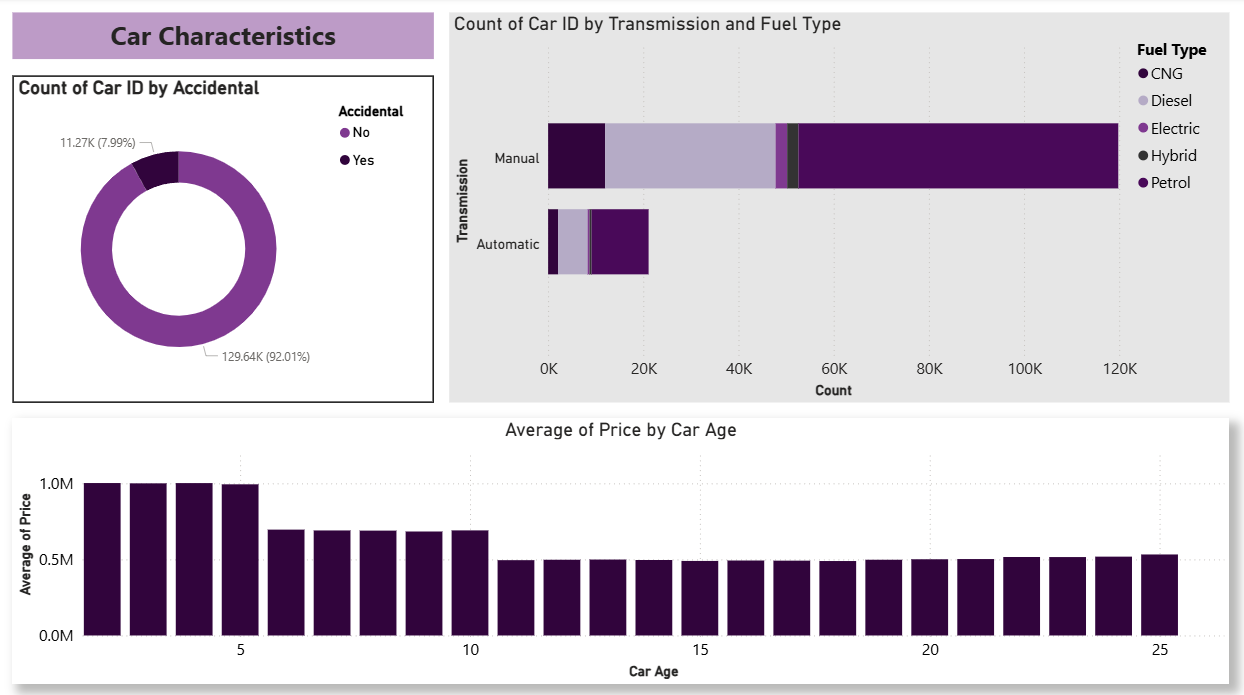

The page's visual inventory and layout, read from the dashboard file:
{"tool":"powerbi","page":{"name":"Page 3","canvas":[1280,720],"ordinal":2},"visuals":[{"type":"textbox","box":[16,16,432,48],"z":0},{"type":"barChart","fields":{"Category":["Car Sell Dataset.Transmission"],"Series":["Car Sell Dataset.Fuel Type"],"Y":["CountNonNull(Car Sell Dataset.Car ID)"]},"box":[464,16,800,400],"z":1000},{"type":"columnChart","fields":{"Category":["Car Sell Dataset.Car Age"],"Y":["Avg(Car Sell Dataset.Price)"]},"box":[16,432,1248,272],"z":2000},{"type":"donutChart","fields":{"Category":["Car Sell Dataset.Accidental"],"Y":["CountNonNull(Car Sell Dataset.Car ID)"]},"box":[16,80,432,336],"z":3000}]}

Visuals, with their boxes in screenshot pixels (x1, y1, x2, y2), scaled from the page's 1280x720 canvas onto the 1244x695 screenshot:
textbox: box(16, 15, 435, 62)
barChart - Car Sell Dataset.Transmission x Car Sell Dataset.Fuel Type: box(451, 15, 1228, 402)
columnChart - Car Sell Dataset.Car Age x Avg(Car Sell Dataset.Price): box(16, 417, 1228, 680)
donutChart - Car Sell Dataset.Accidental x CountNonNull(Car Sell Dataset.Car ID): box(16, 77, 435, 402)
